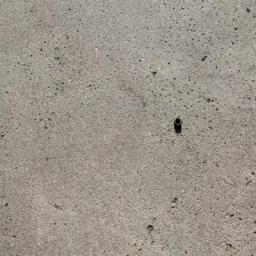FOD: (173, 117, 186, 136)
